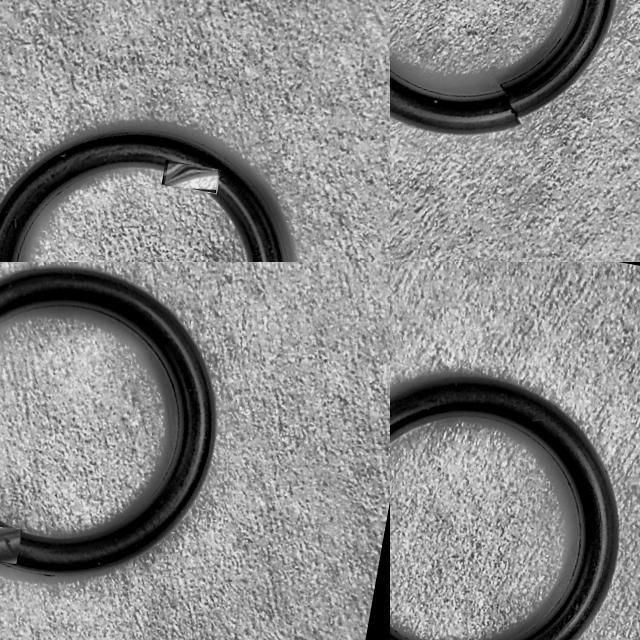切割缺陷: (164, 165, 218, 185), (0, 528, 17, 563)
挤压缺陷: (488, 78, 528, 132)
